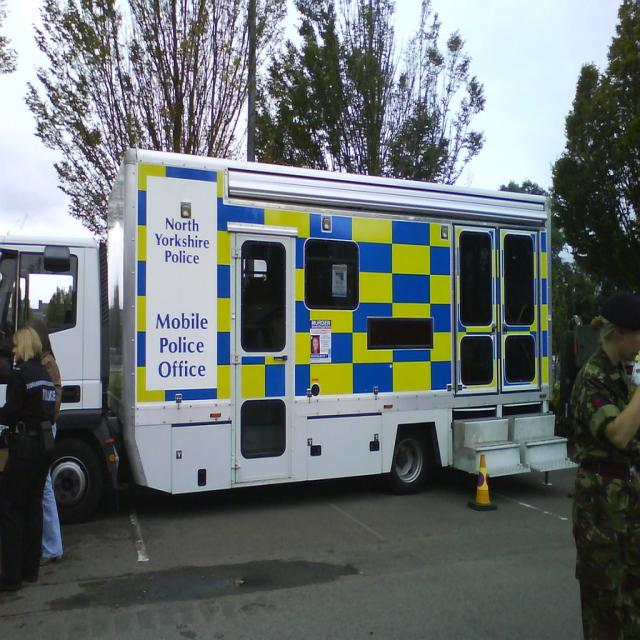Heavy Duty Truck: (1, 143, 574, 526)
